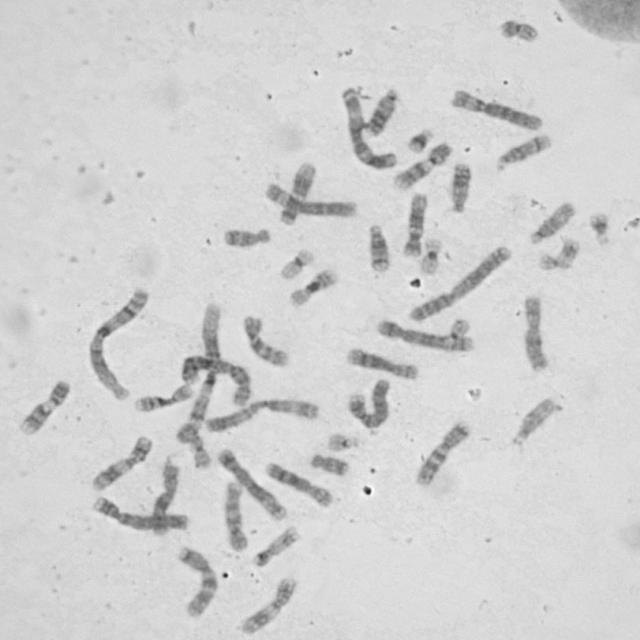A1: (83, 282, 152, 402), (174, 295, 225, 441)
A2: (405, 242, 515, 324), (176, 350, 255, 408)
A3: (338, 82, 400, 171), (201, 394, 322, 434)
B4: (89, 491, 192, 533), (342, 373, 393, 430)
B5: (213, 444, 288, 522), (372, 314, 477, 354)
C10: (238, 310, 292, 368), (219, 476, 251, 554)
C11: (86, 431, 155, 493), (234, 573, 299, 637)
C12: (274, 157, 319, 227), (398, 189, 429, 258)
C6: (447, 84, 546, 132), (260, 178, 359, 220)
C7: (411, 417, 474, 488), (172, 542, 219, 619)
C8: (260, 456, 336, 510), (342, 344, 422, 381)
C9: (15, 375, 73, 437), (389, 138, 455, 191)
D13: (360, 83, 402, 137), (446, 158, 474, 214)
D14: (491, 129, 554, 173), (364, 219, 393, 274)
D15: (508, 393, 561, 447), (524, 196, 578, 246)
E16: (285, 262, 341, 308), (129, 379, 196, 414)
E17: (248, 522, 302, 568), (534, 234, 582, 272)
E18: (219, 223, 273, 249), (306, 448, 352, 478)
F19: (276, 244, 318, 281), (415, 232, 445, 276)
F20: (181, 426, 214, 471), (495, 14, 541, 44)
G21: (585, 207, 614, 247), (402, 122, 437, 154)
G22: (324, 429, 362, 453), (445, 314, 473, 340)
X: (518, 290, 552, 373), (147, 459, 182, 536)
